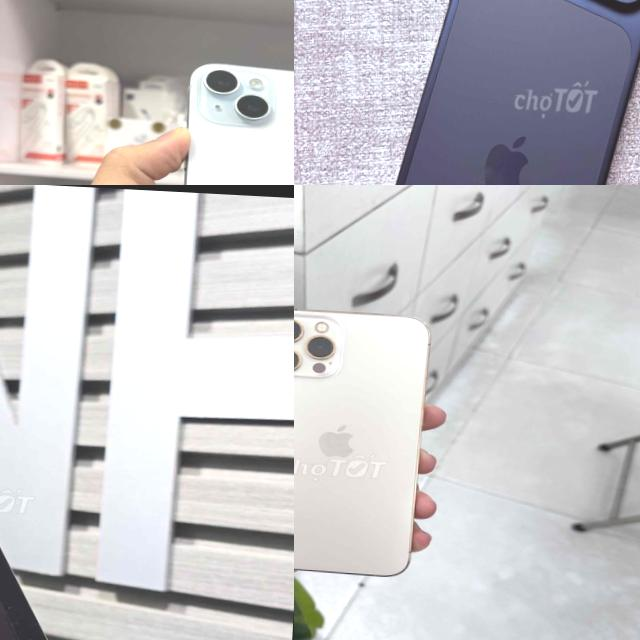gen_14: (0, 280, 110, 640)
gen_15: (294, 305, 437, 583), (176, 64, 294, 185)
gen_17: (362, 0, 640, 185)
